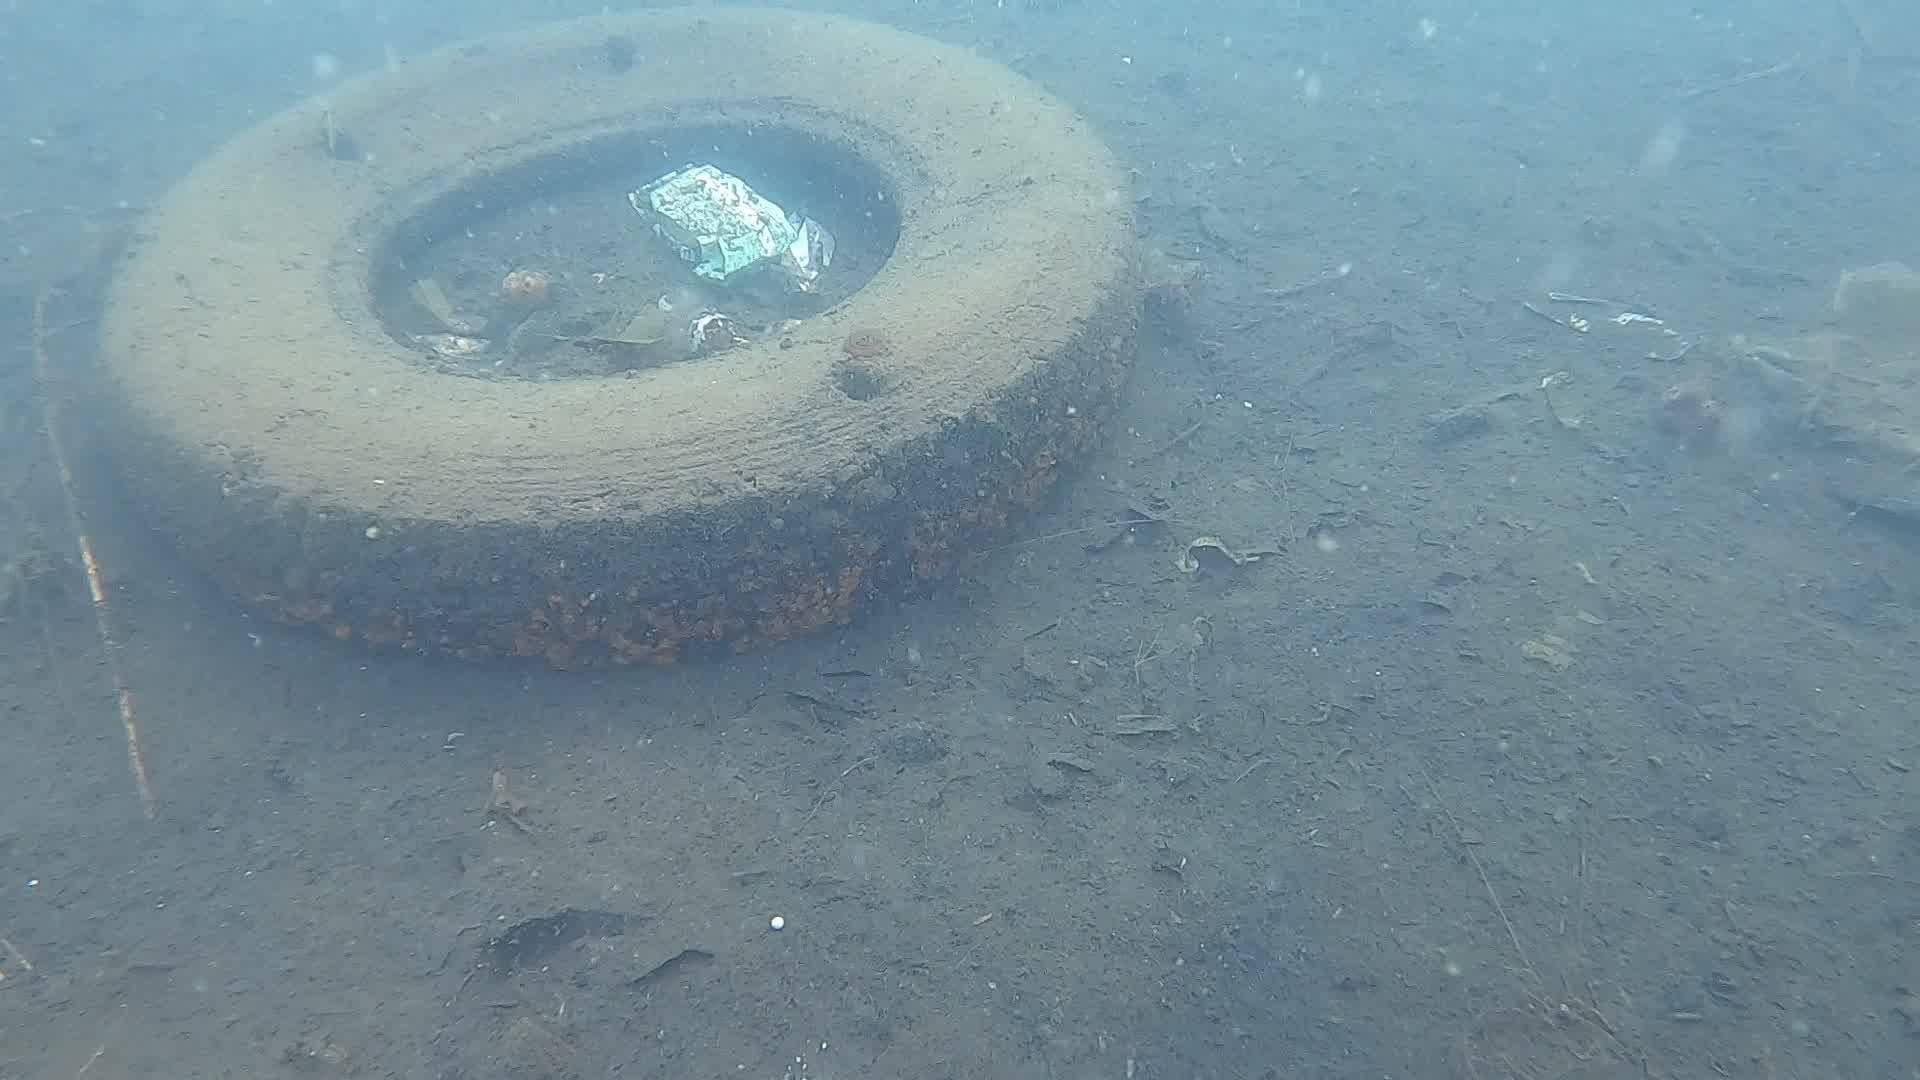tire: (86, 0, 1150, 673)
